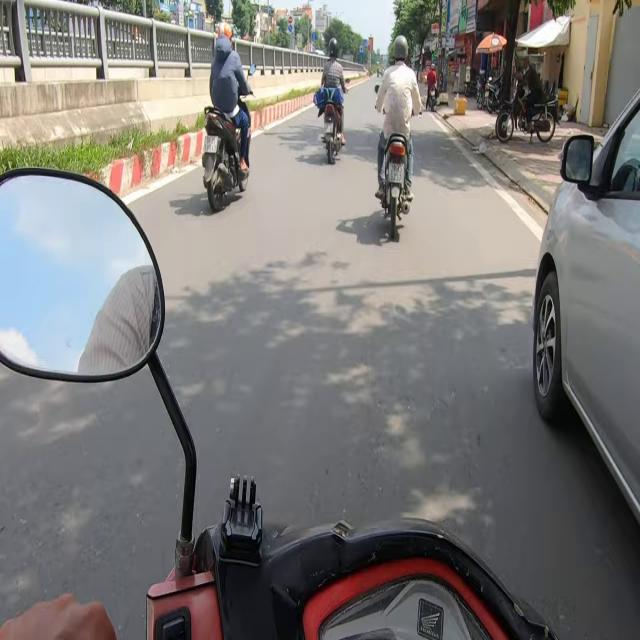bien_trang: (388, 161, 404, 185), (204, 134, 217, 154)
